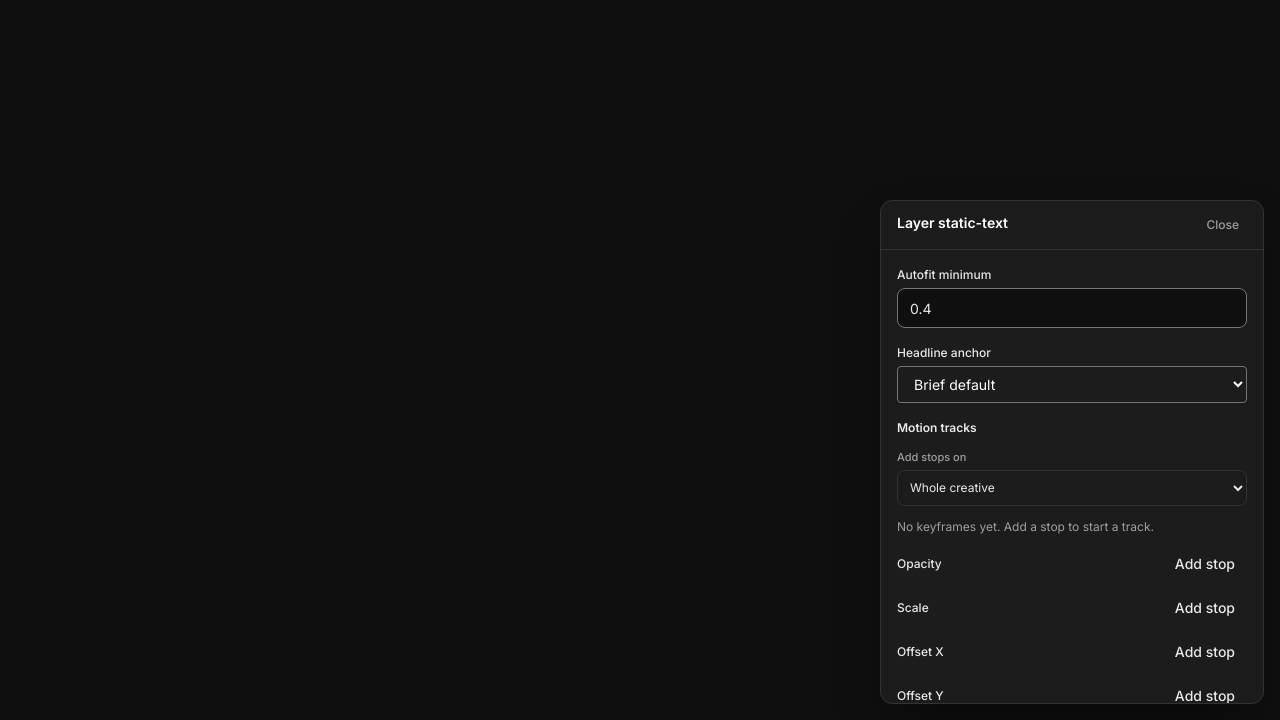
Test: authoring a stop › removing the only stop takes the whole section back to empty
Click the button "Add stop" in the row of "Opacity". click: coordinates (1205, 564)
box: [1163, 548, 1247, 580]
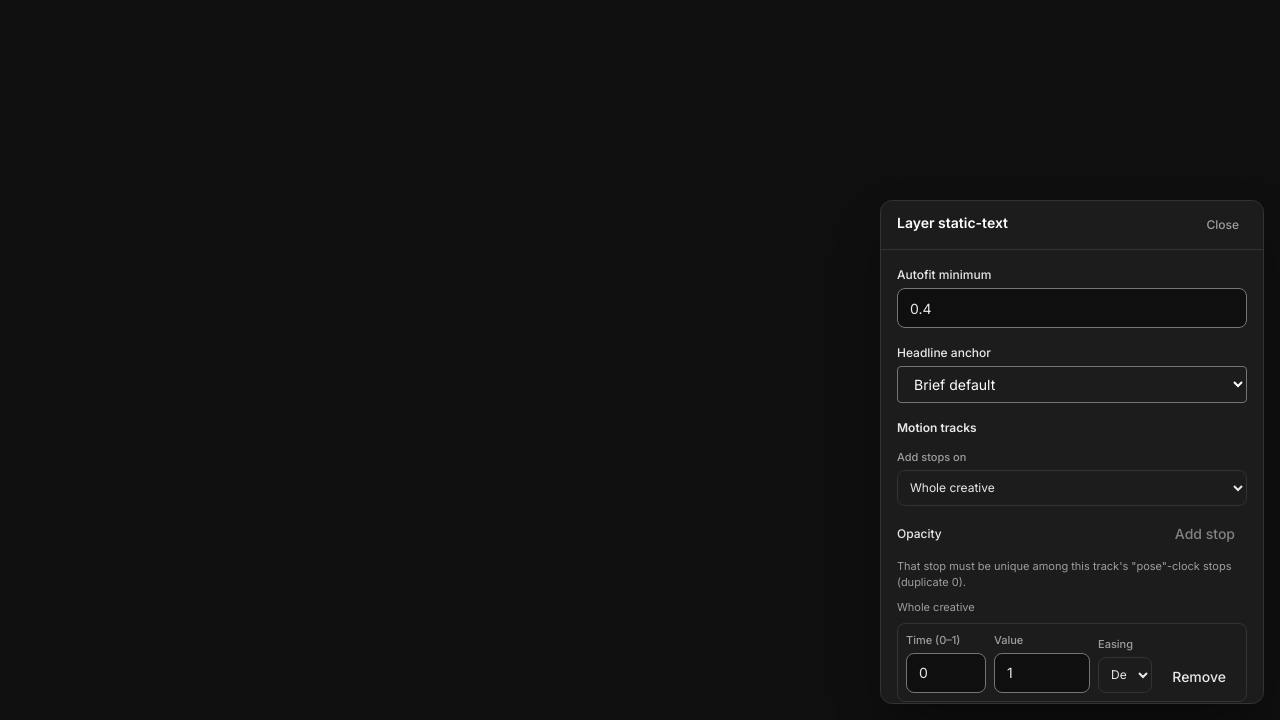
Click the button "Remove". click: coordinates (1199, 676)
box: [1160, 660, 1238, 692]
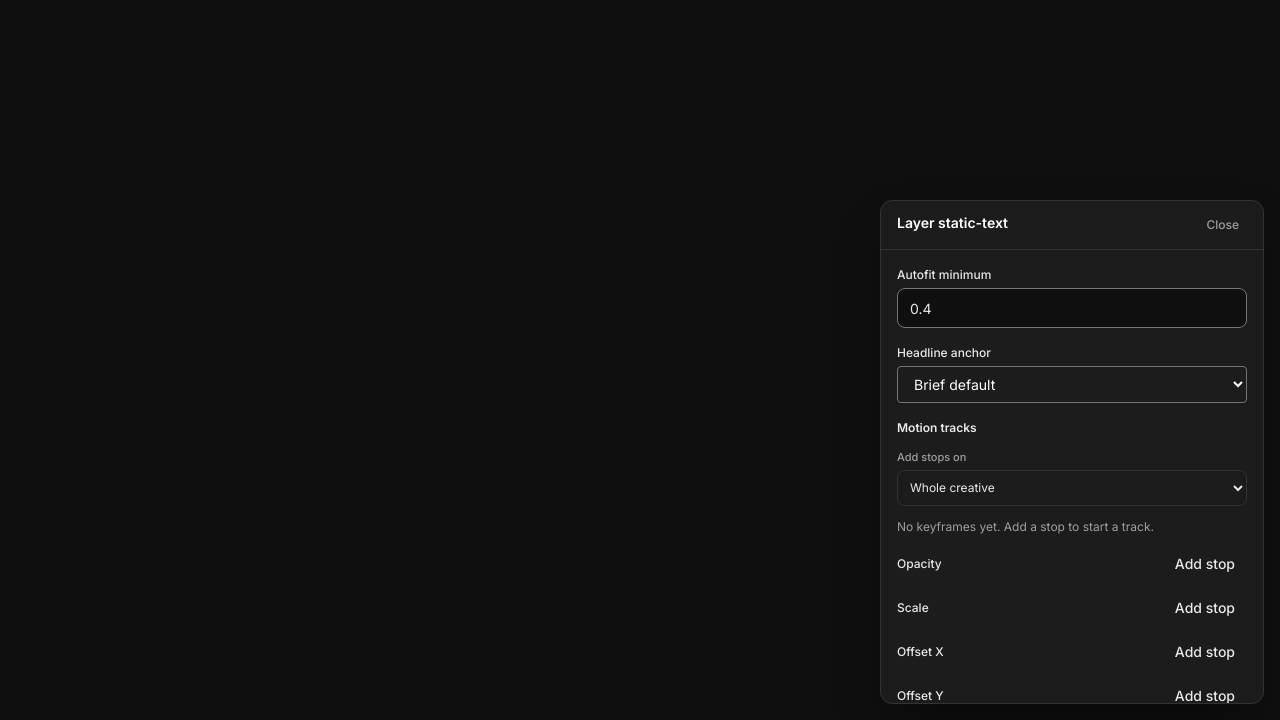
Now the text "No keyframes yet. Add a stop to start a track." is shown, box [897, 518, 1154, 534]
